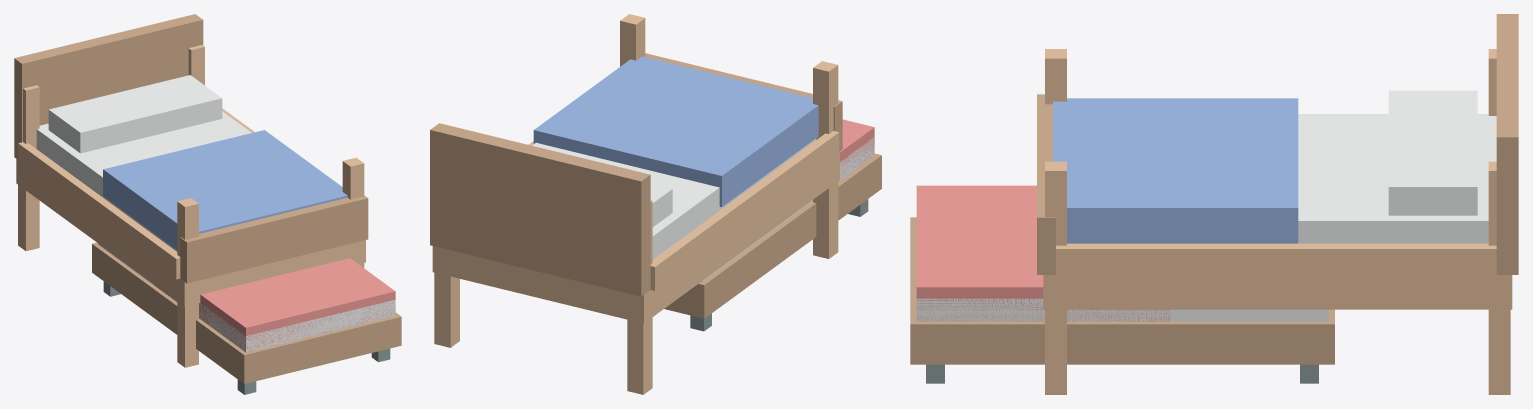
The model's file is bedTrundle.glb.
3 views of the same model, side by side, from view 1: azimuth 30°, elevation 25°; view 2: azimuth 150°, elevation 25°; view 3: azimuth 270°, elevation 25° (orthographic). The views are drawn at different scales.
Visible parts, largest first — view 1: bedTrundle; view 2: bedTrundle; view 3: bedTrundle.
Boxes of the visible parts, bbox=[...] form: bedTrundle: bbox=[14, 14, 401, 394]; bedTrundle: bbox=[430, 14, 881, 394]; bedTrundle: bbox=[910, 14, 1518, 394].
Size of the model in its own units: 0.48 by 0.45 by 0.96.
